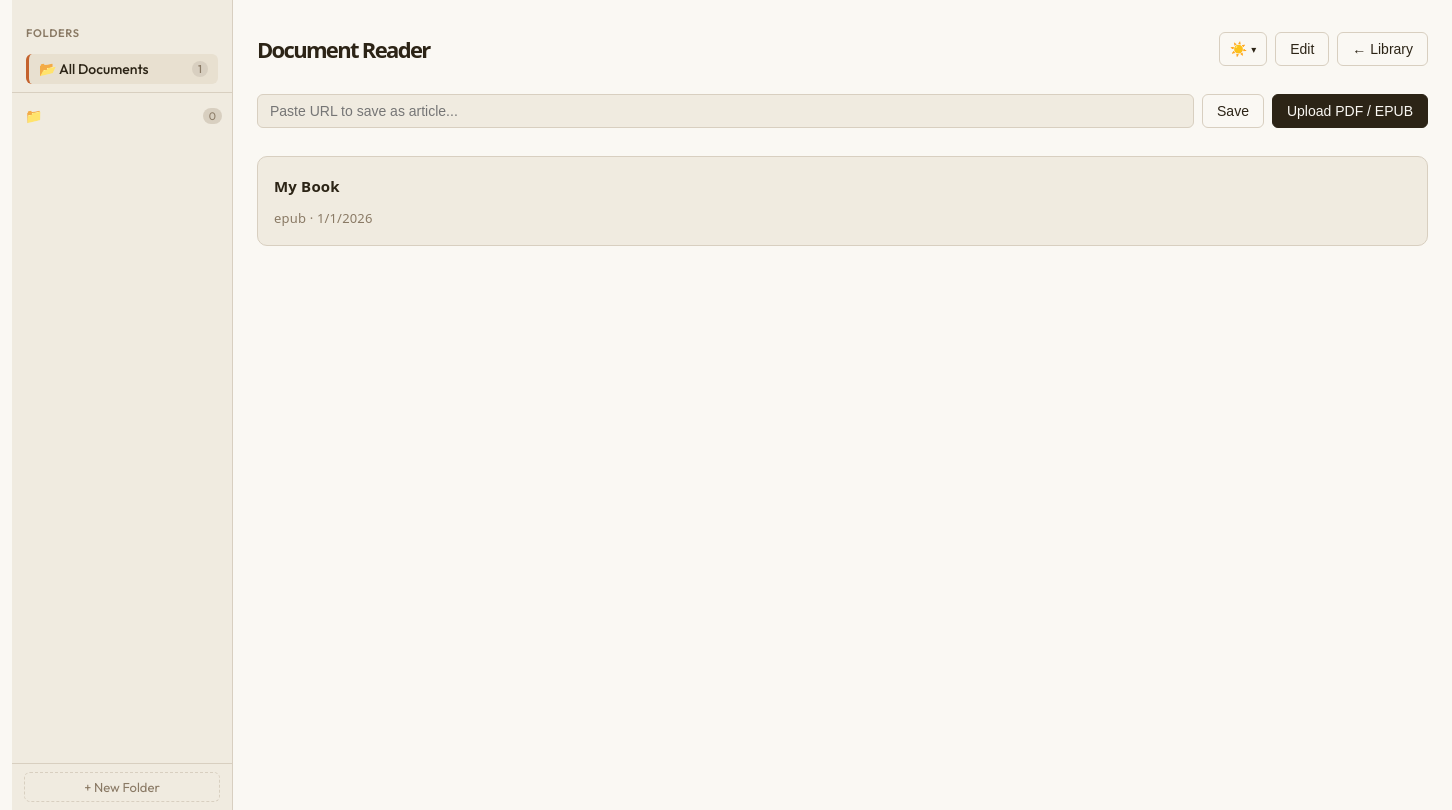
Scenario: delete button appears in edit mode and clicking it shows confirmation
Expected: the text "My Book" is shown, top-left (274, 176), bottom-right (340, 196)
Click the button "Edit": (1302, 49) top-left (1275, 32), bottom-right (1329, 66)
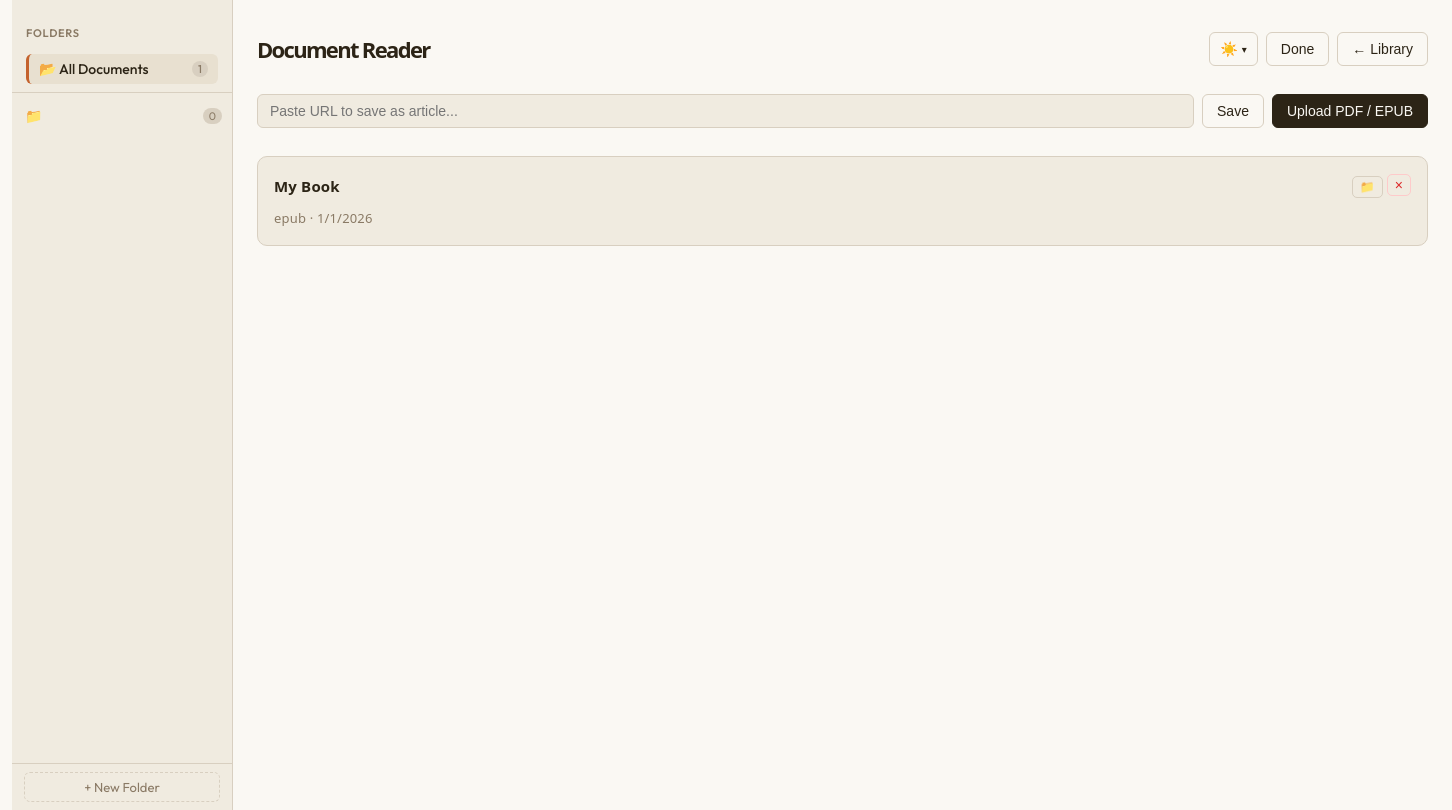
Expected: the button named "delete my book" is shown
Click the button named "delete my book": (1399, 184) top-left (1387, 174), bottom-right (1411, 196)
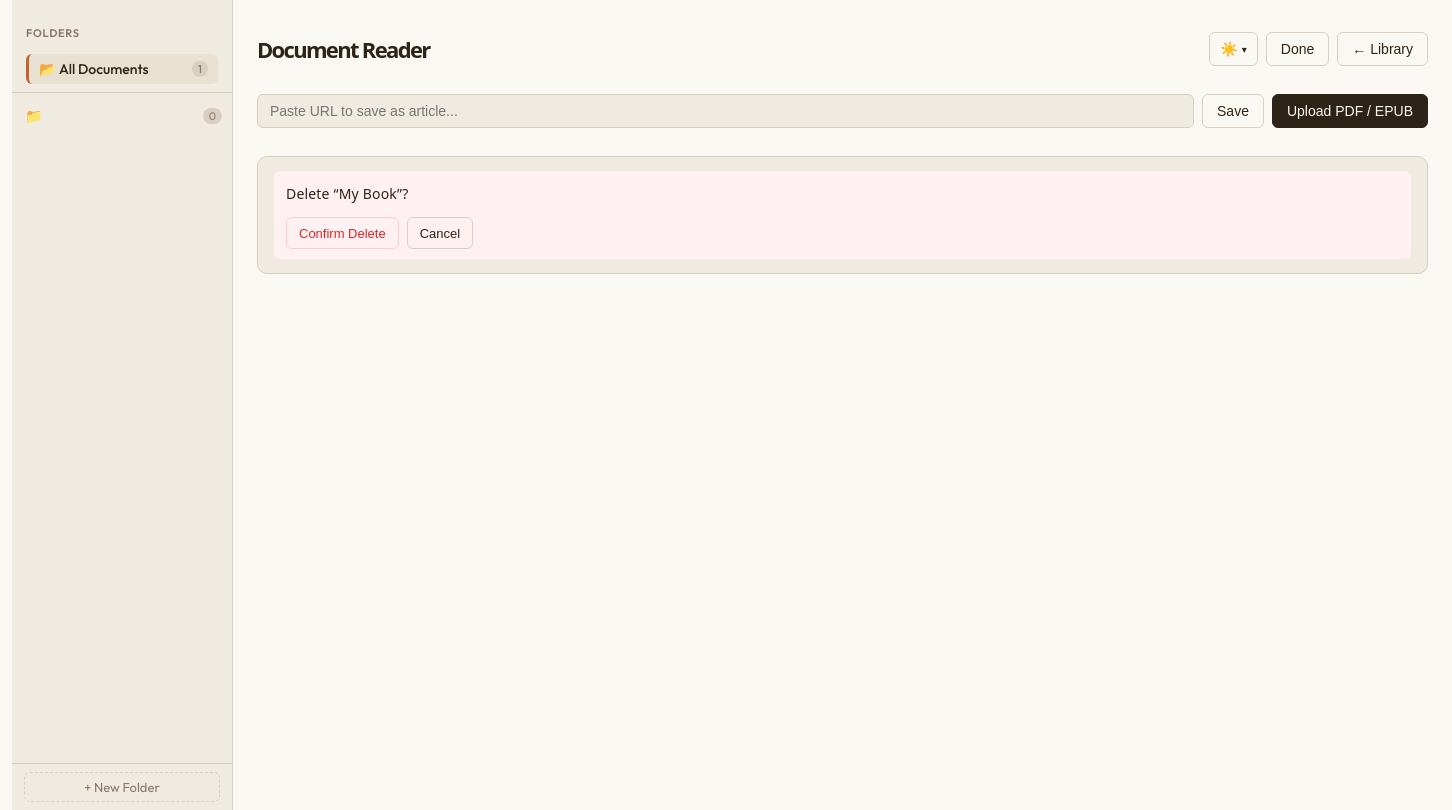
Expected: the button "Confirm Delete" is shown, top-left (286, 217), bottom-right (399, 249)
Expected: the button "Cancel" is shown, top-left (407, 217), bottom-right (473, 249)
